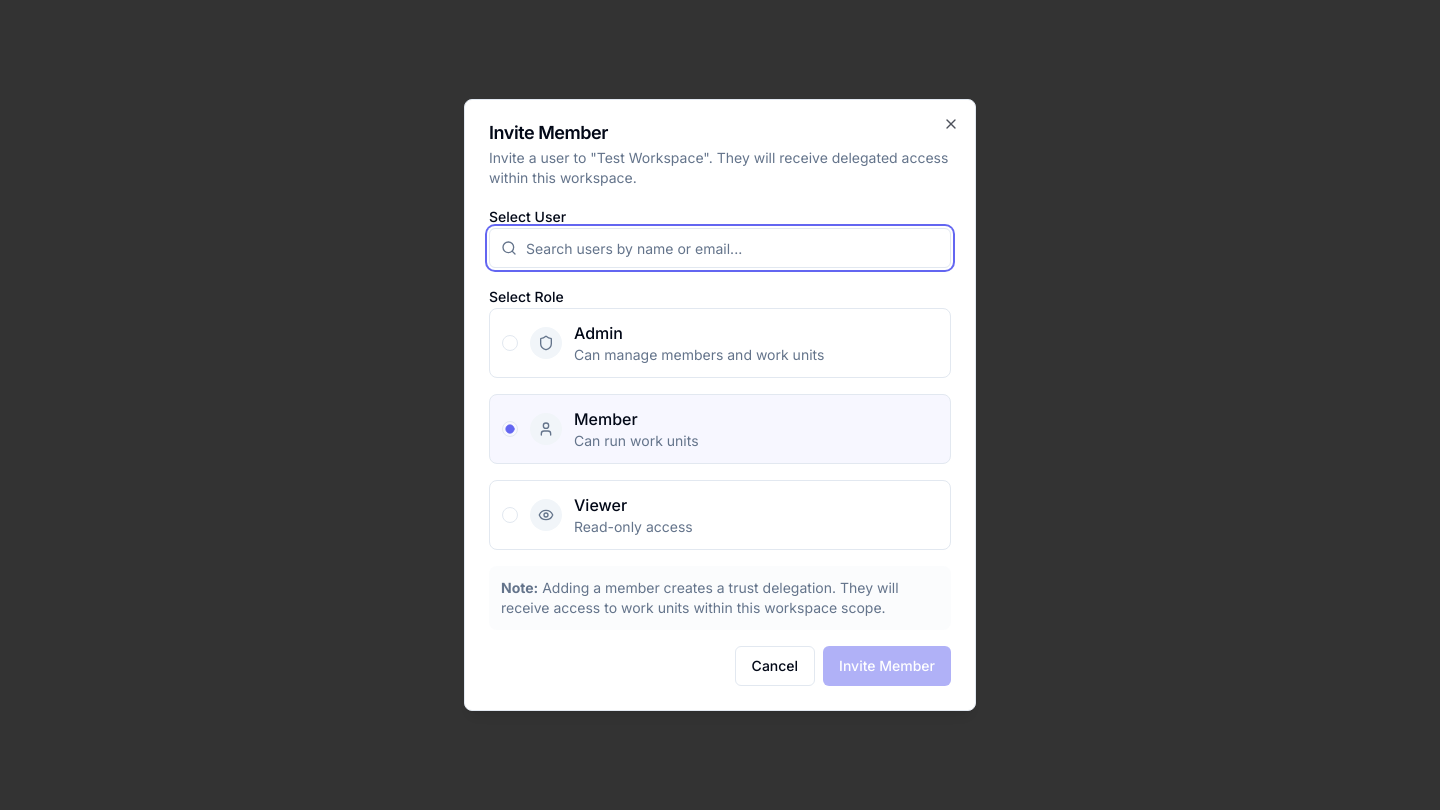
Scenario: InviteMemberDialog › user selection › should allow selecting a user
In the field with placeholder "Search users by name or email...": [720, 248] box 489,228 -> 951,268, type "alice"
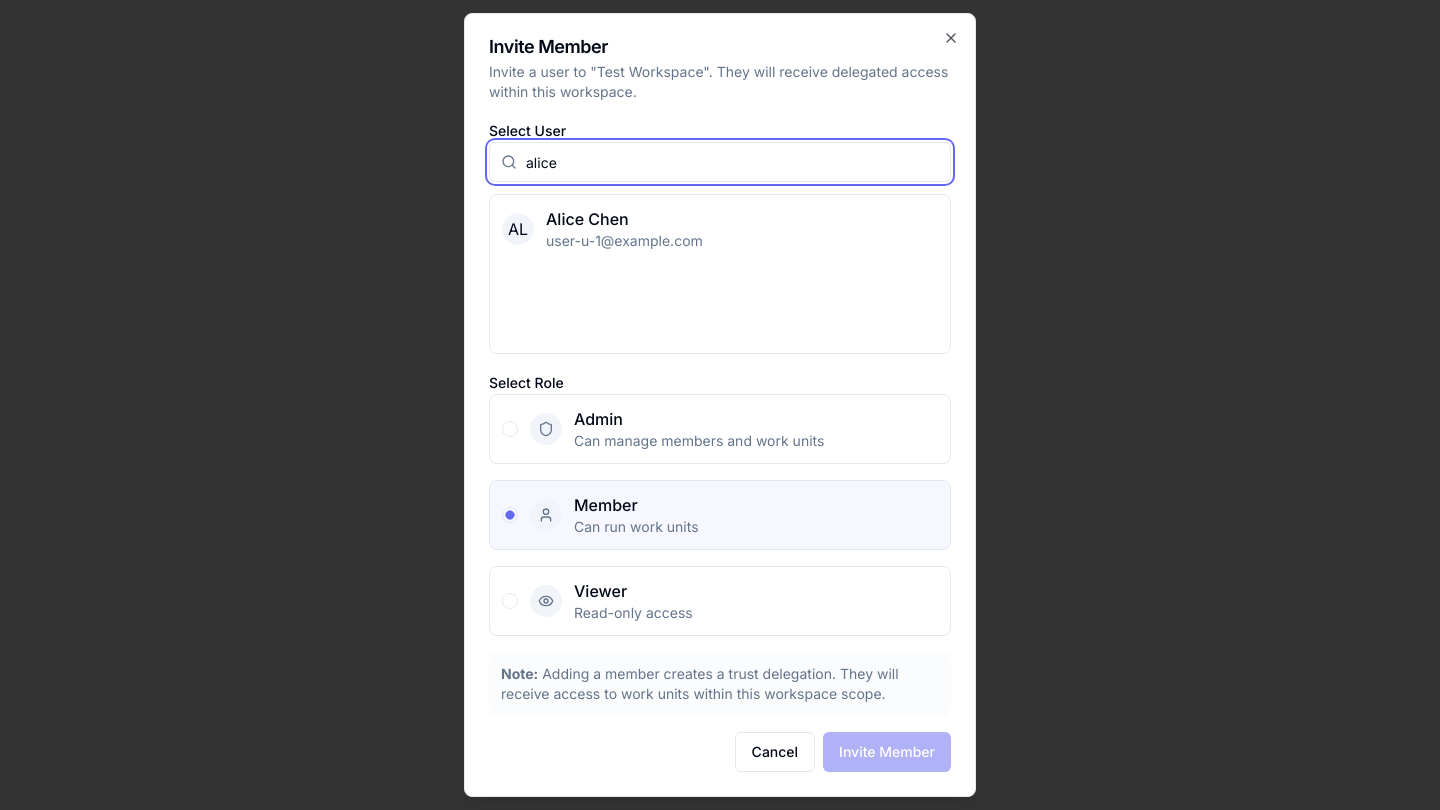
Click the button with test id "user-option-u-1": [518, 229] box 490,195 -> 950,263
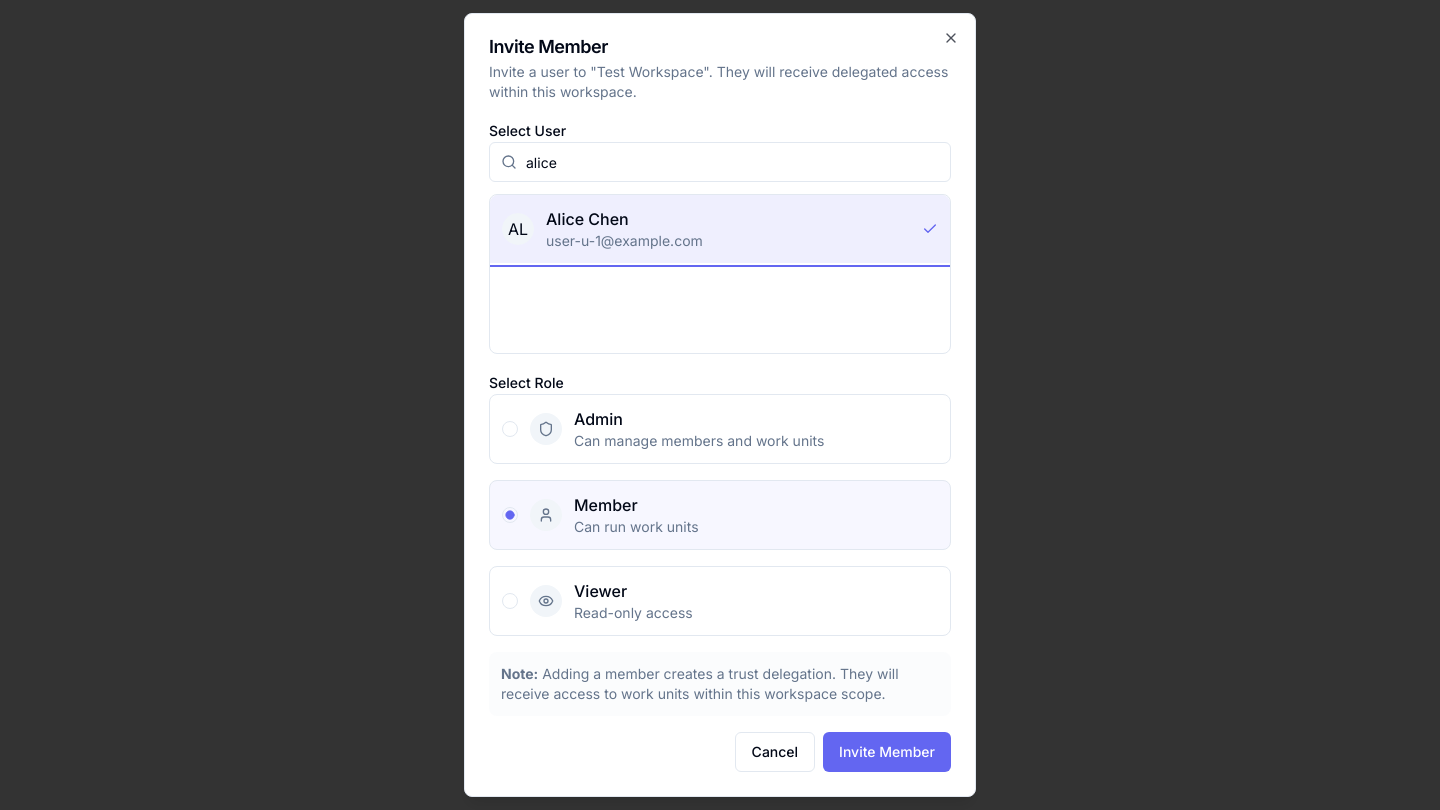
Expected: the 3rd icon is shown, 922,221 -> 938,237
